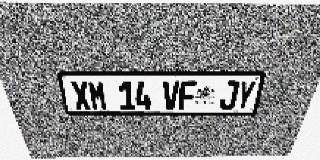1: (117, 81, 136, 110)
4: (135, 81, 152, 110)
F: (179, 81, 197, 110)
J: (219, 81, 240, 110)
M: (87, 81, 108, 110)
V: (163, 81, 180, 110)
X: (70, 81, 92, 110)
Y: (234, 81, 257, 110)
